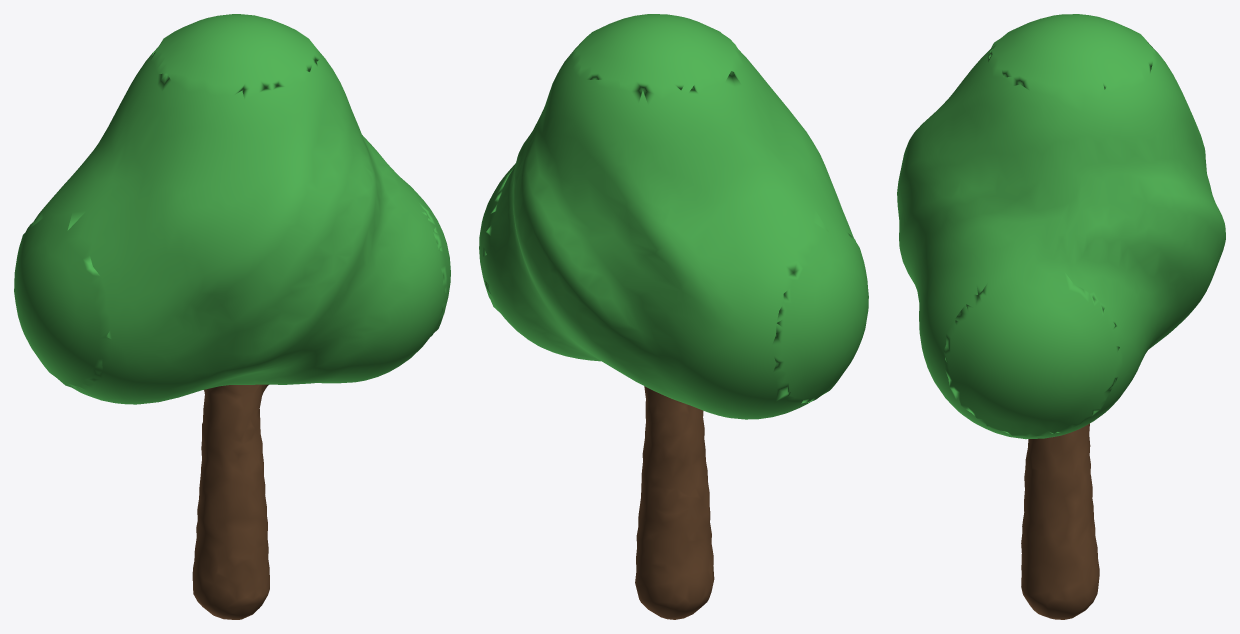
File: tree.glb
3 views of the same model, side by side, from view 1: azimuth 30°, elevation 25°; view 2: azimuth 150°, elevation 25°; view 3: azimuth 270°, elevation 25° (orthographic). The views are drawn at different scales.
Visible parts, largest first — view 1: root; view 2: root; view 3: root.
Boxes of the visible parts, box(x1,y1,x2,y2) form: root: box(14, 14, 450, 619); root: box(479, 14, 868, 619); root: box(897, 14, 1225, 619).
Size of the model in its own units: 1.67 by 2.46 by 1.23.
